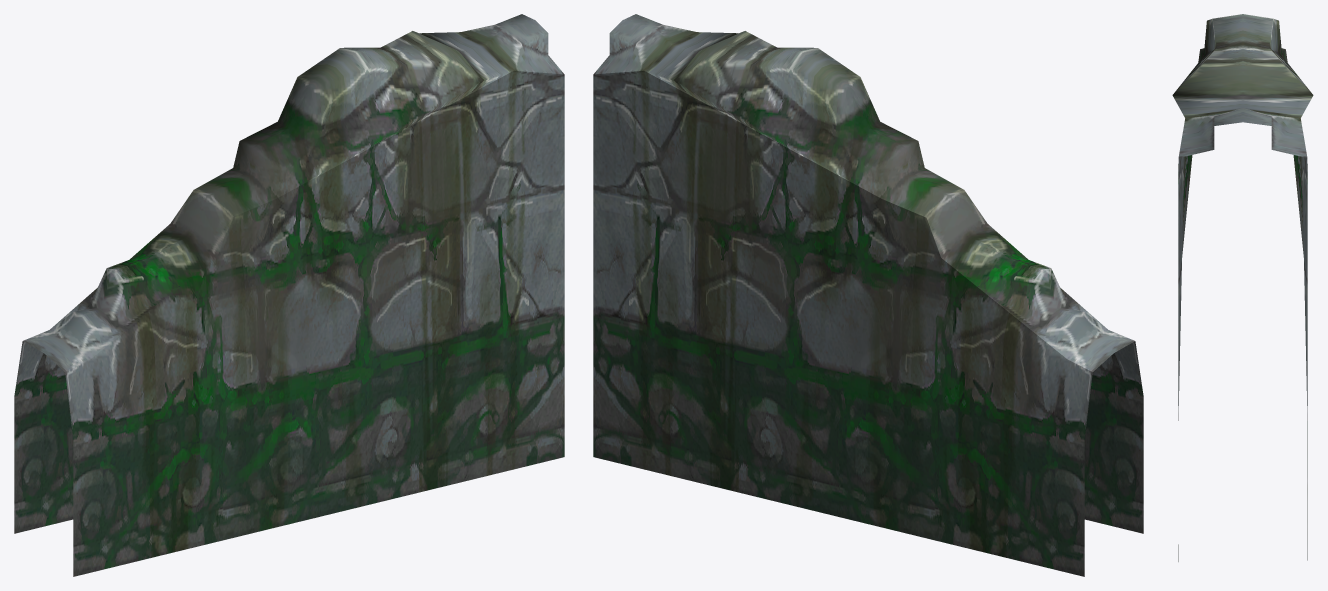
Rendered from stemple_wall_transition_02.fbx.
3 views of the same model, side by side, from view 1: azimuth 30°, elevation 25°; view 2: azimuth 150°, elevation 25°; view 3: azimuth 270°, elevation 25° (orthographic). The views are drawn at different scales.
Visible parts, largest first — view 1: sunken_tileset/sunken_wall_transition02_mat; view 2: sunken_tileset/sunken_wall_transition02_mat; view 3: sunken_tileset/sunken_wall_transition02_mat.
Part boxes in pixels (x1=…): sunken_tileset/sunken_wall_transition02_mat: x1=14, y1=14, x2=564, y2=576; sunken_tileset/sunken_wall_transition02_mat: x1=593, y1=14, x2=1143, y2=576; sunken_tileset/sunken_wall_transition02_mat: x1=1172, y1=14, x2=1313, y2=561.
Size of the model in its own units: 4 by 3.33 by 0.909.
